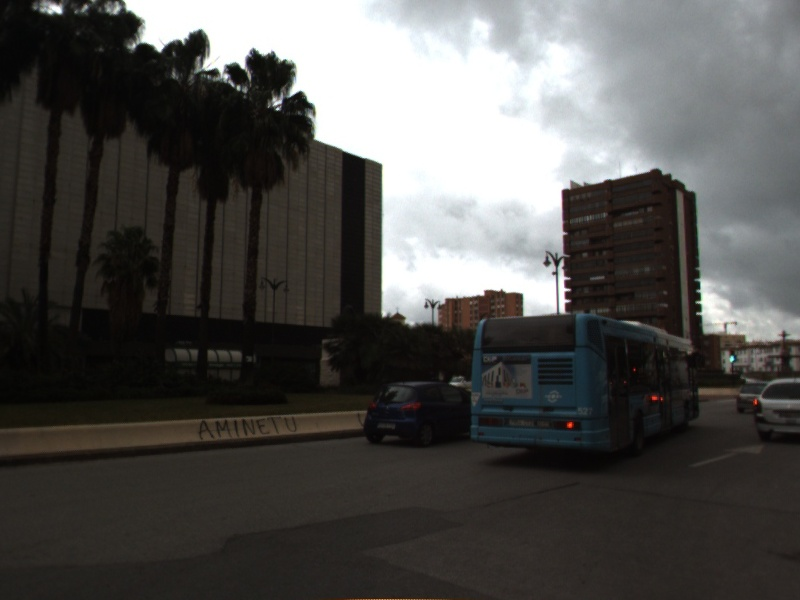STRAIGHT: (686, 442, 767, 470)
